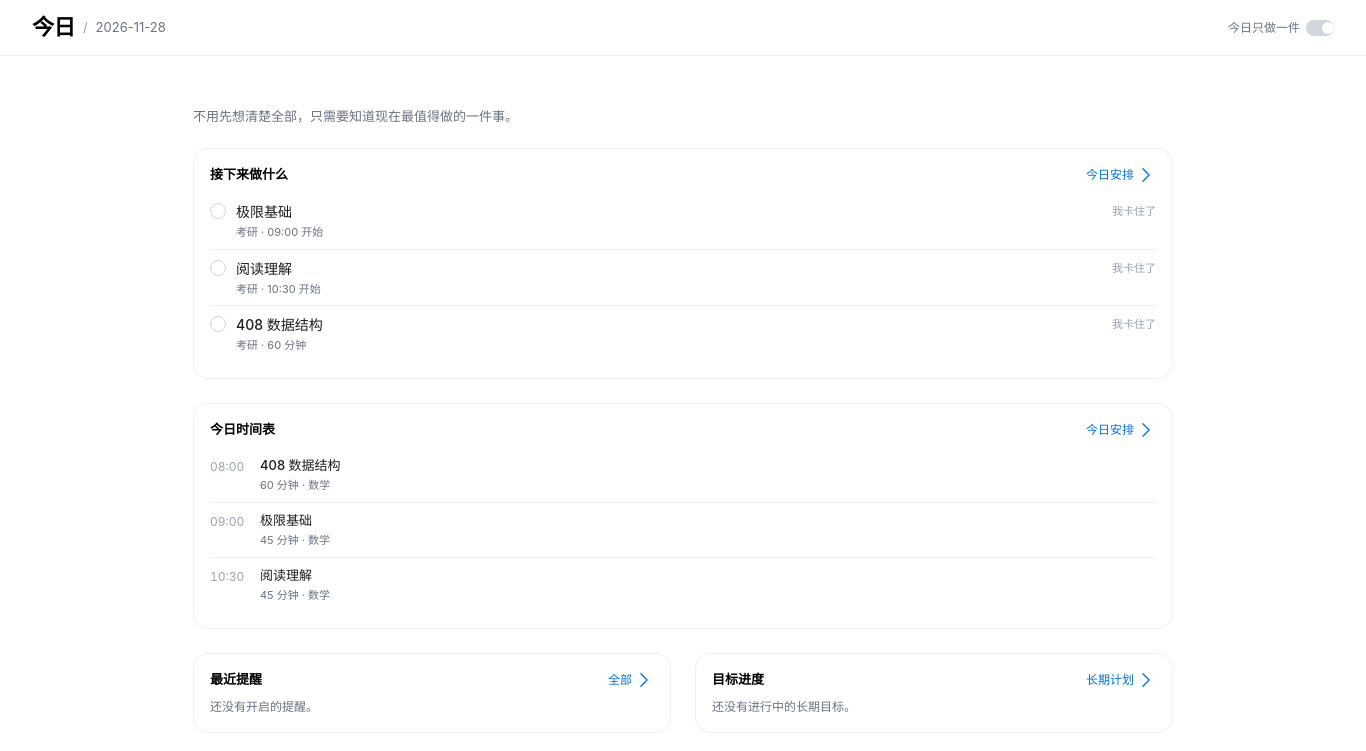
今日只做一件 › picking another task replaces the choice
Step 1. Click the switch labelled "今日只做一件" → x=1281, y=28, box [1228,18,1334,36]
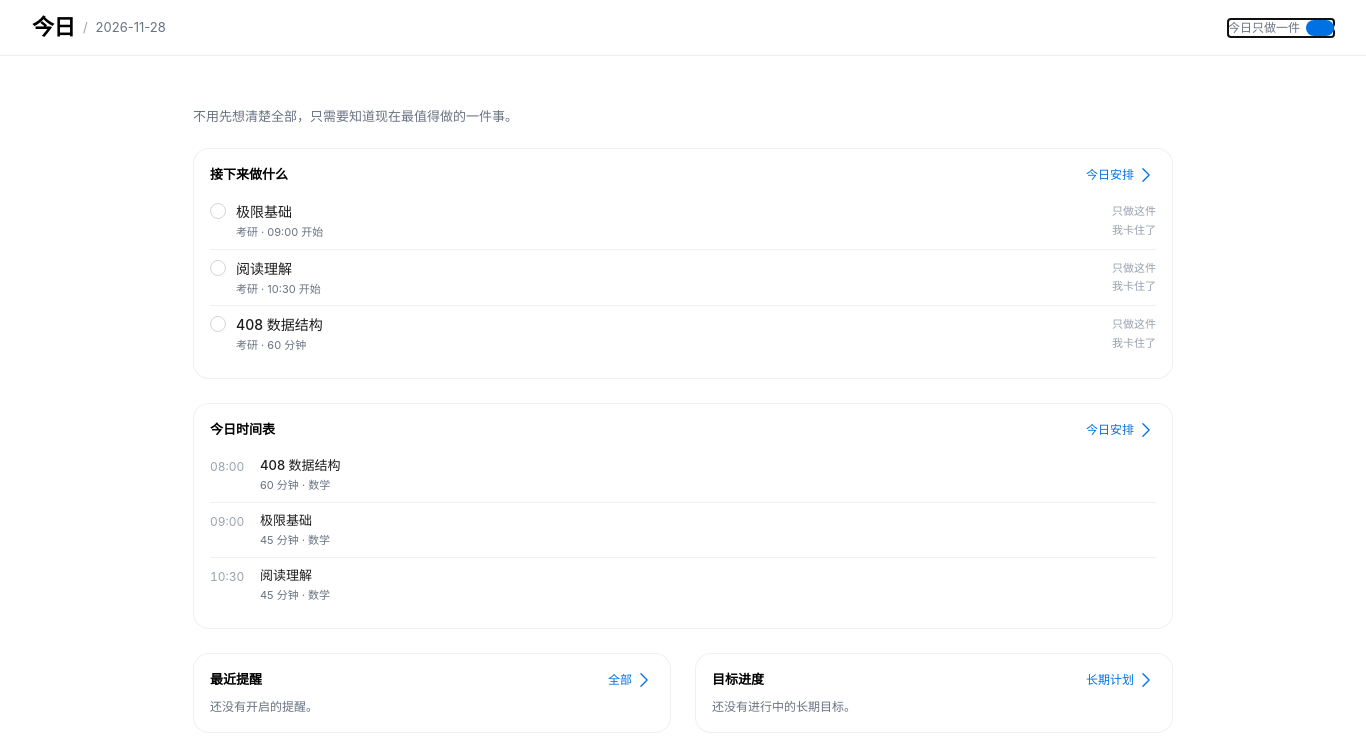
Step 2. Click the button with aria-label "只做这件：阅读理解" → x=1134, y=268, box [1112,260,1156,276]
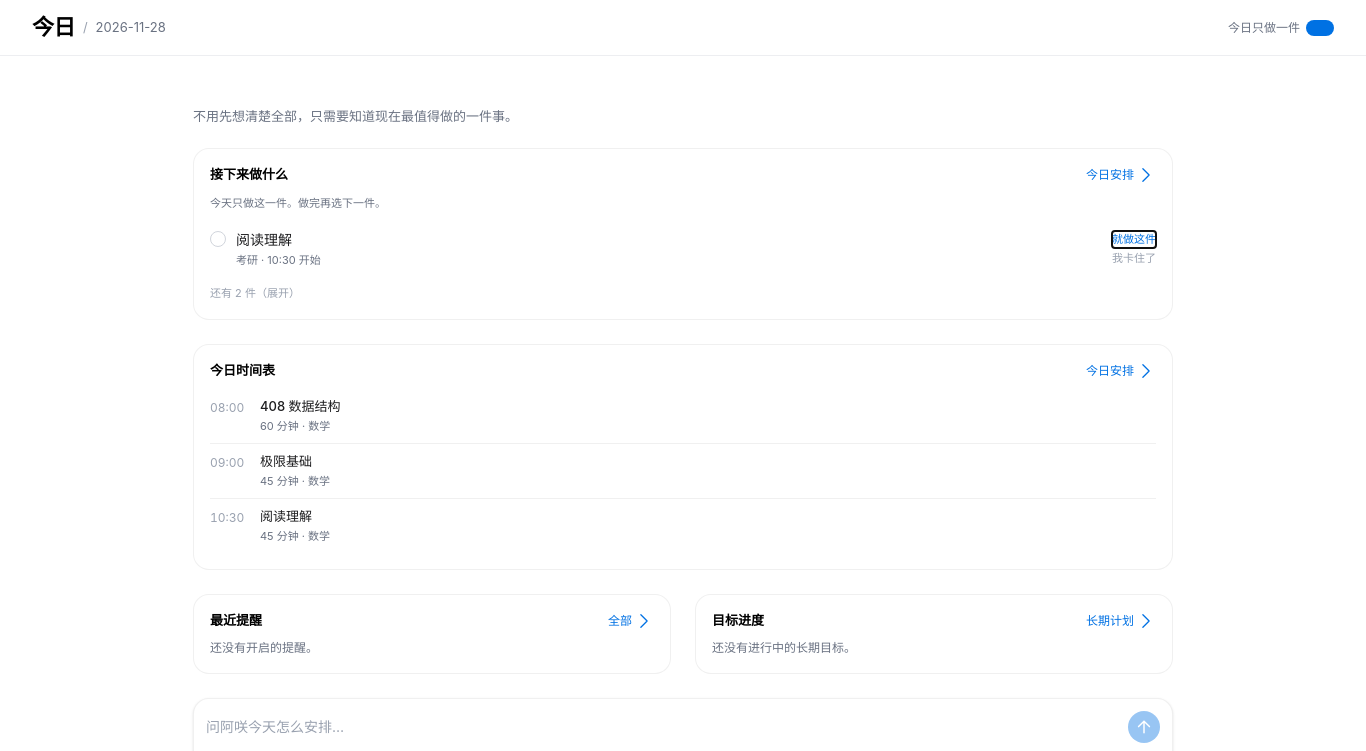
Step 3. Click the button "还有 2 件（展开）" → x=255, y=293, box [210,284,300,301]
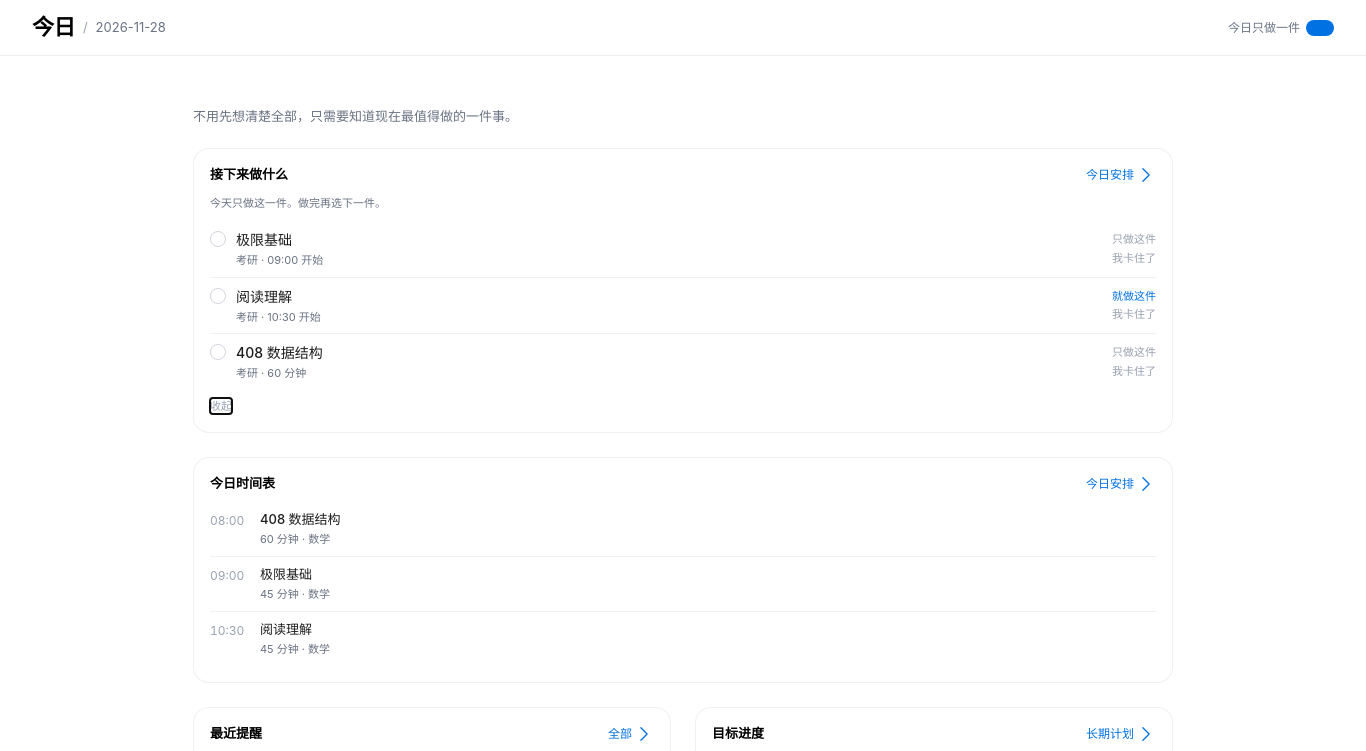
Step 4. Click the button with aria-label "只做这件：408 数据结构" → x=1134, y=352, box [1112,344,1156,360]
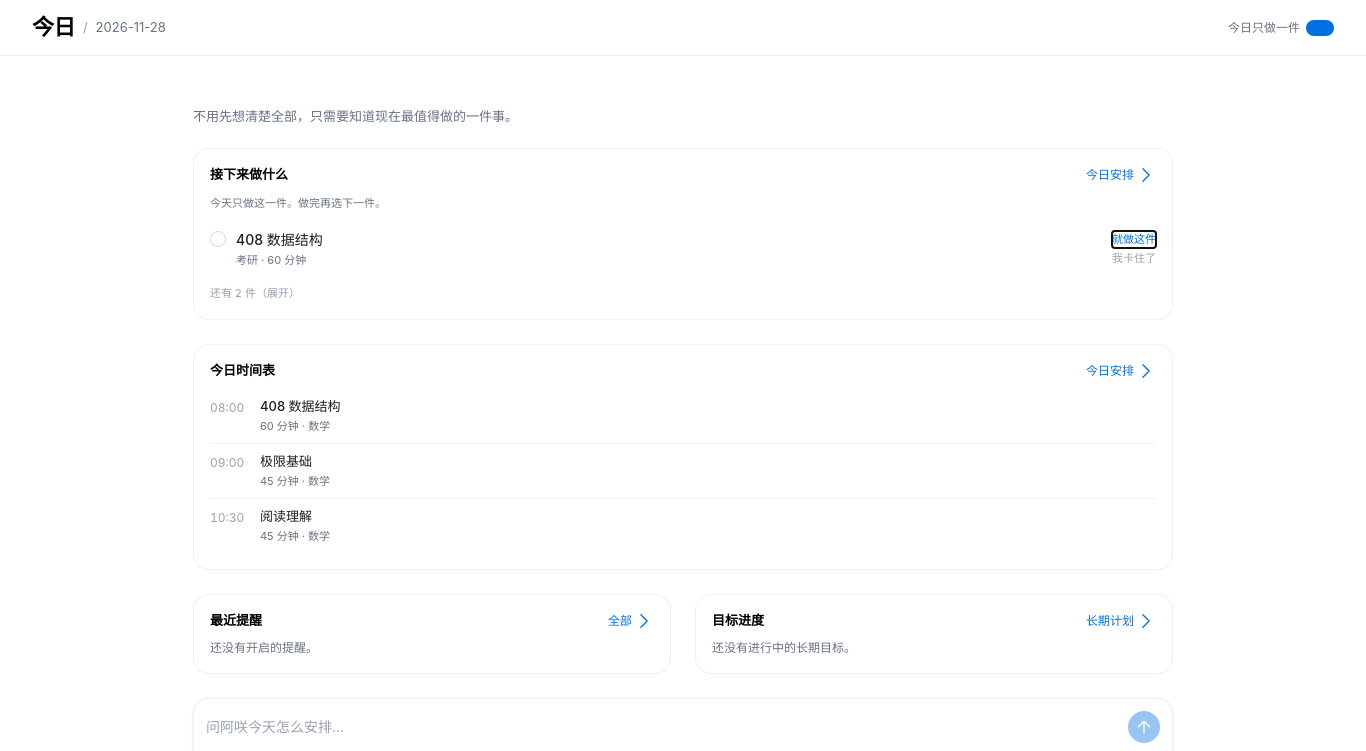
Now the button "408 数据结构" is shown, box [236,229,323,250]
Now the number of checkboxes is 1, box [210,231,226,247]
